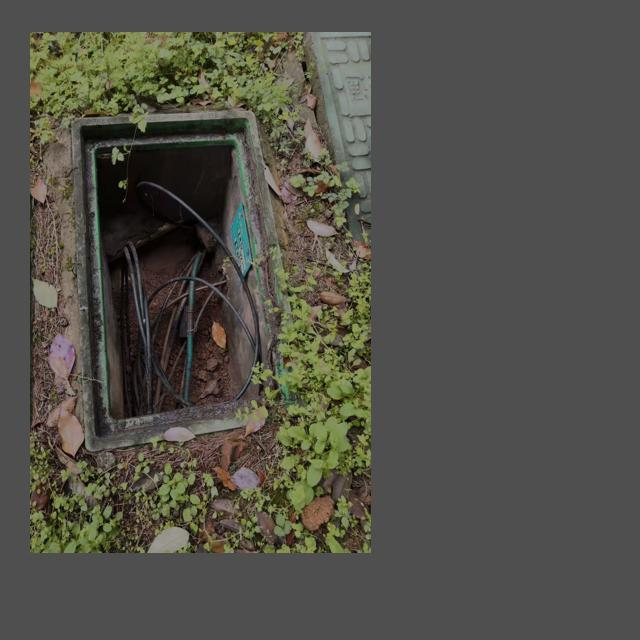lose: (71, 110, 299, 449)
